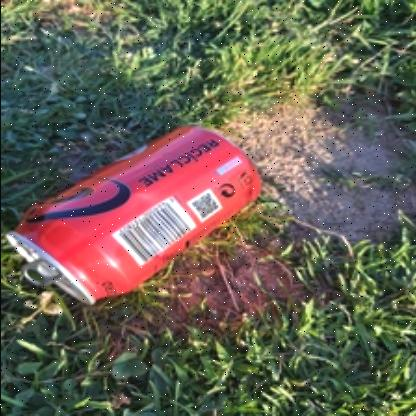Can: (4, 123, 262, 305)
